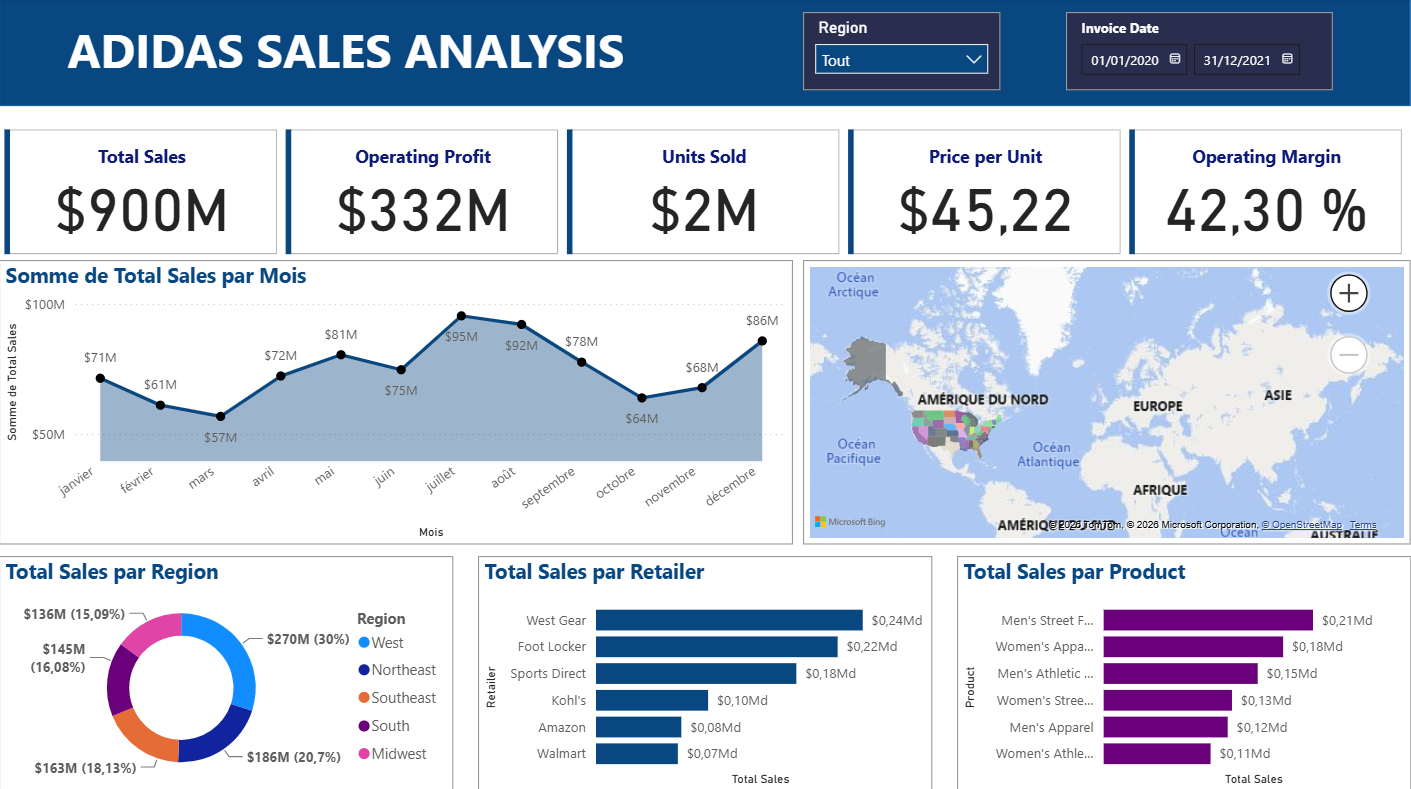

Layout of this report page (visuals, bound fields, positions):
{"tool":"powerbi","page":{"name":"Page 1","canvas":[1280,720],"ordinal":0},"visuals":[{"type":"shape","box":[0,0,1280,98.2],"z":0},{"type":"textbox","box":[57.4,12.6,683.8,73.9],"z":1000},{"type":"areaChart","fields":{"Category":["Data Sales Adidas.Invoice Date.Variation.Hiérarchie de dates.Mois"],"Y":["Sum(Data Sales Adidas.Total Sales)"]},"box":[0,237.6,720,258.4],"z":2000},{"type":"filledMap","fields":{"Category":["Data Sales Adidas.State"],"Series":["Data Sales Adidas.Total Sales"]},"box":[729.1,237.6,551.3,258.4],"z":3000},{"type":"cardVisual","fields":{"Data":["Sum(Data Sales Adidas.Total Sales)","Sum(Data Sales Adidas.Operating Profit)","Sum(Data Sales Adidas.Units Sold)","Avg(Data Sales Adidas.Price per Unit)","select","Avg(Data Sales Adidas.Operating Margin)"]},"box":[0,114.3,1280.4,123.3],"z":4000},{"type":"donutChart","title":"Total Sales par Region","fields":{"Category":["Data Sales Adidas.Region"],"Y":["Sum(Data Sales Adidas.Total Sales)"]},"box":[0,506,411.7,214],"z":5000},{"type":"barChart","fields":{"Category":["Data Sales Adidas.Product"],"Y":["Sum(Data Sales Adidas.Total Sales)"]},"box":[868.7,506,411.7,214],"z":6000},{"type":"barChart","fields":{"Category":["Data Sales Adidas.Retailer"],"Y":["Sum(Data Sales Adidas.Total Sales)"]},"box":[434.4,506,411.7,214],"z":7000},{"type":"slicer","fields":{"Values":["Data Sales Adidas.Region"]},"box":[729.1,12.7,178.6,70.7],"z":8000},{"type":"slicer","fields":{"Values":["Data Sales Adidas.Invoice Date"]},"box":[967.6,12.7,242.1,70.7],"z":9000}]}

Visuals, with their boxes in screenshot pixels (x1, y1, x2, y2), scaled from the page's 1280x720 canvas onto the 1411x789 screenshot:
shape: 0,0,1410,108
textbox: 63,14,817,95
areaChart - Data Sales Adidas.Invoice Date.Variation.Hiérarchie de dates.Mois x Sum(Data Sales Adidas.Total Sales): 0,260,794,544
filledMap - Data Sales Adidas.State x Data Sales Adidas.Total Sales: 804,260,1410,544
cardVisual - Sum(Data Sales Adidas.Total Sales) x Sum(Data Sales Adidas.Operating Profit): 0,125,1410,260
"Total Sales par Region" donutChart: 0,554,454,788
barChart - Data Sales Adidas.Product x Sum(Data Sales Adidas.Total Sales): 958,554,1410,788
barChart - Data Sales Adidas.Retailer x Sum(Data Sales Adidas.Total Sales): 479,554,933,788
slicer - Data Sales Adidas.Region: 804,14,1001,91
slicer - Data Sales Adidas.Invoice Date: 1067,14,1334,91
